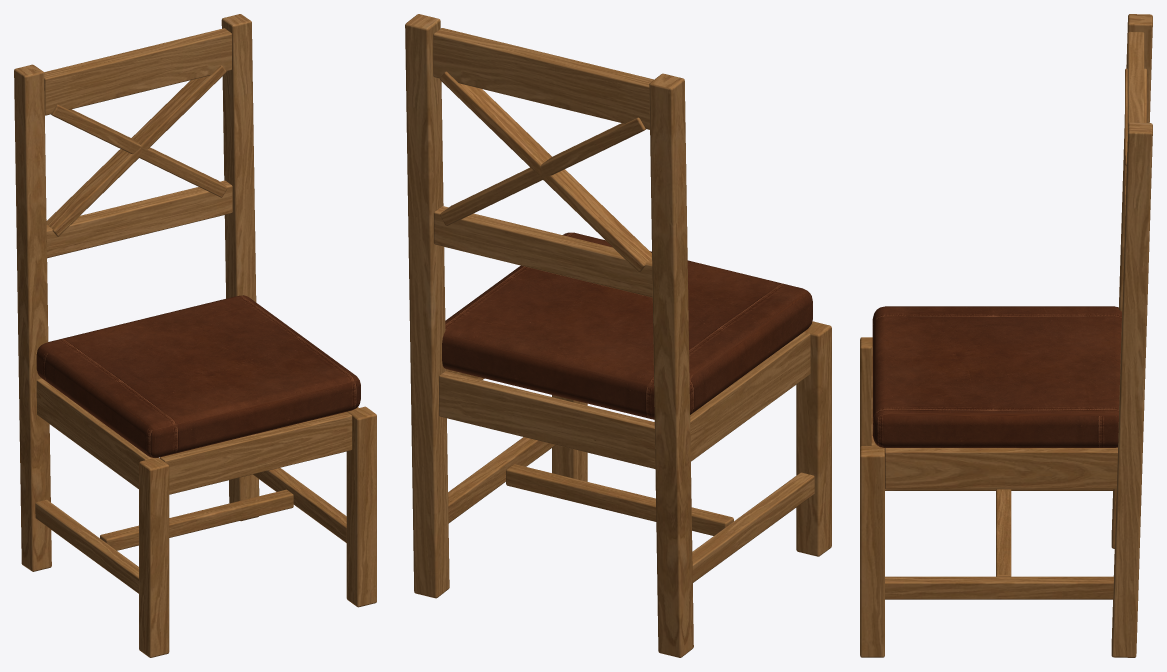
File: chair-norway.glb
3 renders of one model, left to right at view 1: azimuth 30°, elevation 25°; view 2: azimuth 150°, elevation 25°; view 3: azimuth 270°, elevation 25°, orthographic. The views are drawn at different scales.
Bounding box in the file's own units: 0.5099 × 1.05 × 0.5298.
Materials: 2 (2 with a texture image).
